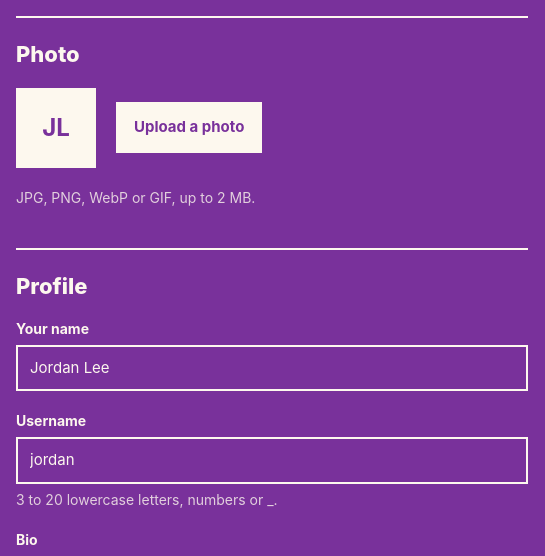
Scenario: Settings › says when a new username is taken
Step 1. Replace the text in the field labelled "Username" with "sam" → (272, 461), box [16,437,528,484]
(page scrolled)
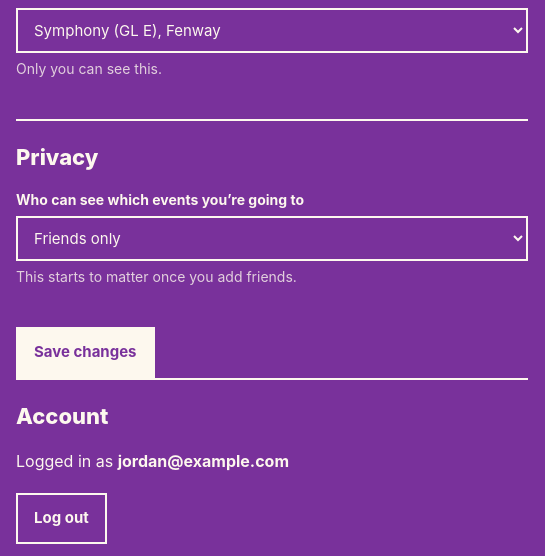
Step 2. Click the button "Save changes" → (85, 353), box [16,327,154,378]
(page scrolled)
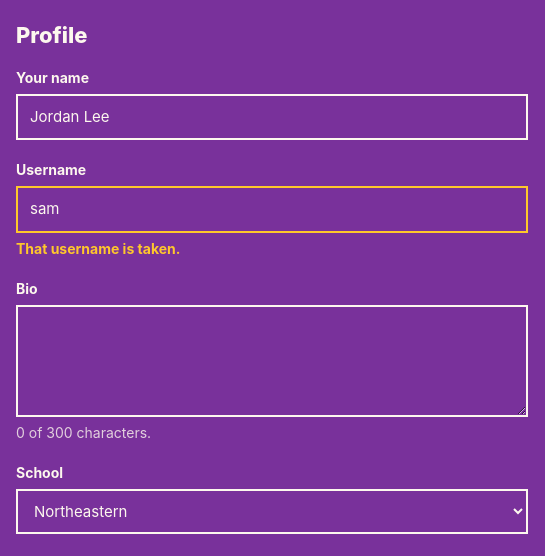
Result: the text "That username is taken." is shown at [16,240,180,257]
